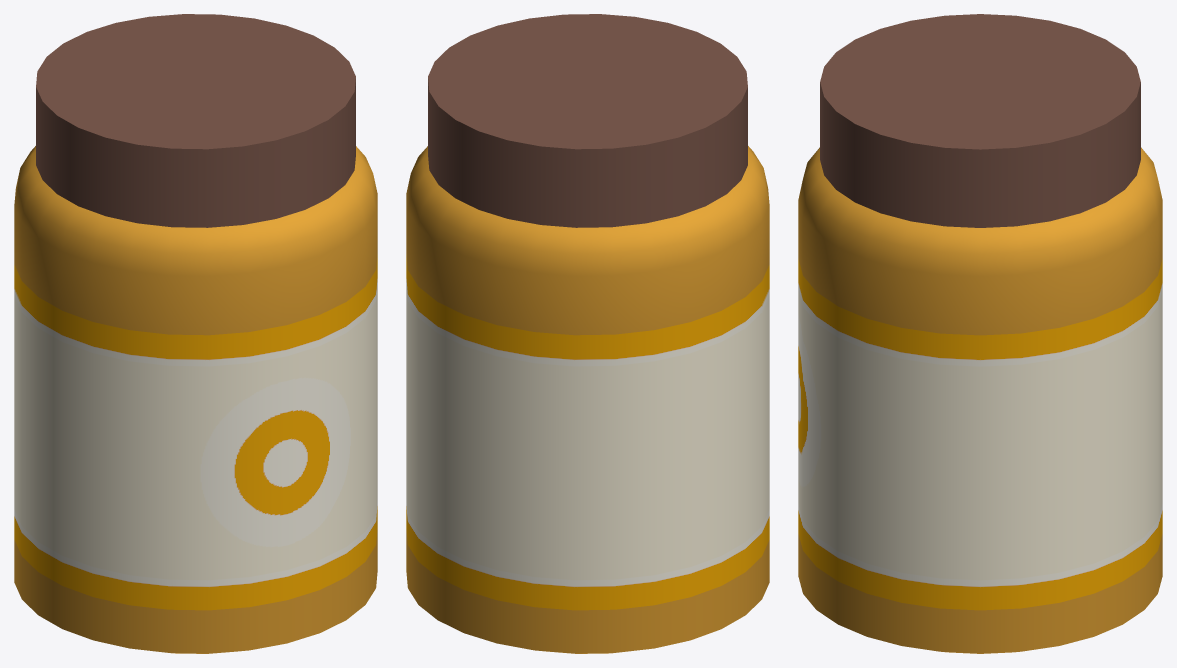
Rendered from Honey.fbx.
The picture shows the model from 3 angles, left to right: view 1: azimuth 30°, elevation 25°; view 2: azimuth 150°, elevation 25°; view 3: azimuth 270°, elevation 25°; orthographic projection.
Visible parts, largest first — view 1: Honey; view 2: Honey; view 3: Honey.
Part boxes in pixels (left/top/right/bottom): Honey: left=14, top=14, right=377, bottom=653; Honey: left=406, top=14, right=769, bottom=653; Honey: left=798, top=14, right=1162, bottom=653.
Bounding box in the file's own units: 0.084 × 0.13 × 0.084.
Materials: 3 (1 with a texture image).
